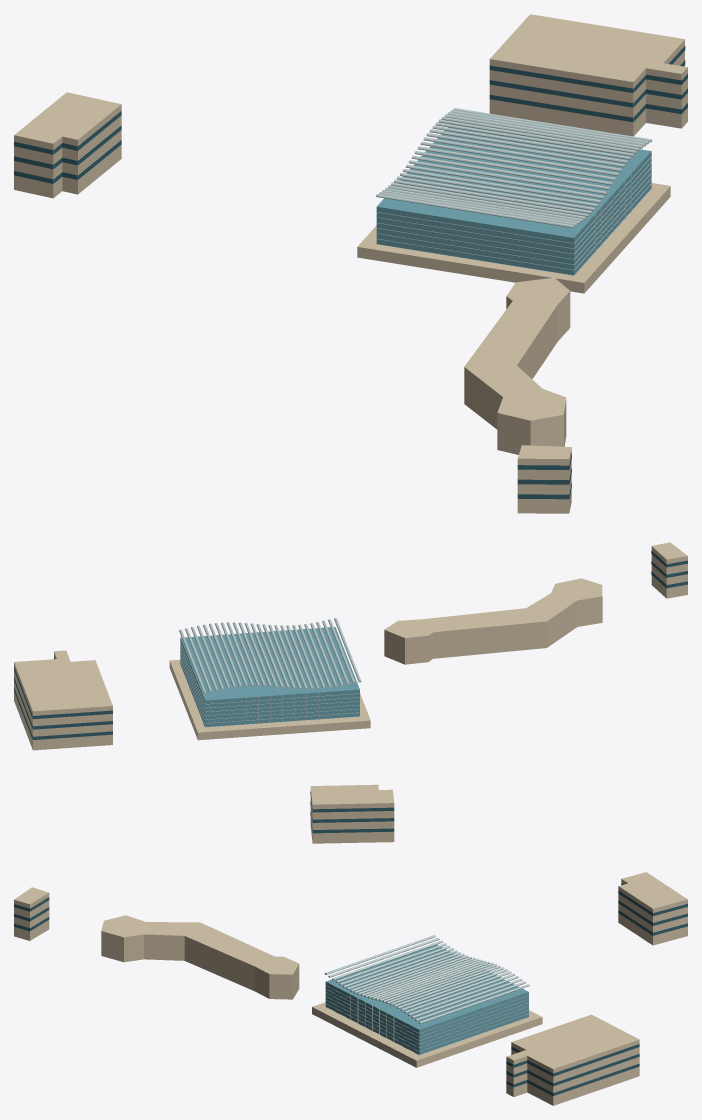
The model's file is city_2_1.glb.
3 views of the same model, one above another, from view 1: azimuth 30°, elevation 25°; view 2: azimuth 150°, elevation 25°; view 3: azimuth 270°, elevation 25° (orthographic). The views are drawn at different scales.
Parts seen in each view (by area): view 1: city_2_1; view 2: city_2_1; view 3: city_2_1.
Part boxes in pixels (left/top/right/bottom): city_2_1: left=14, top=14, right=687, bottom=513; city_2_1: left=14, top=542, right=687, bottom=843; city_2_1: left=14, top=872, right=687, bottom=1105.
Bounding box in the file's own units: 173 × 18 × 250.
